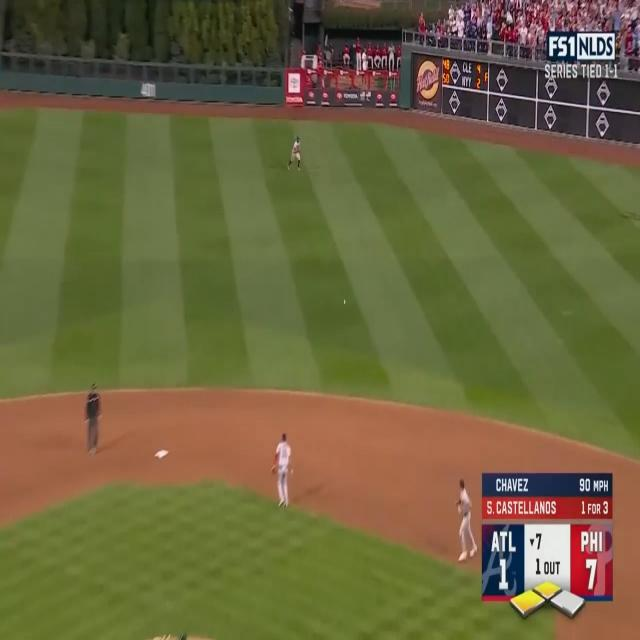baseball: (344, 299, 346, 305)
